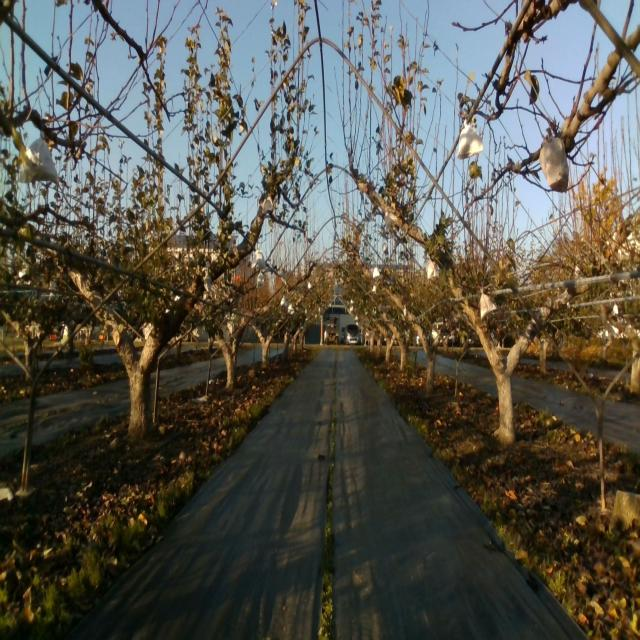pearbags: (16, 126, 56, 184), (538, 132, 569, 193), (456, 116, 484, 159), (479, 289, 497, 320), (251, 246, 266, 272), (262, 193, 276, 215), (426, 259, 441, 279), (384, 212, 397, 232), (203, 271, 214, 293)
